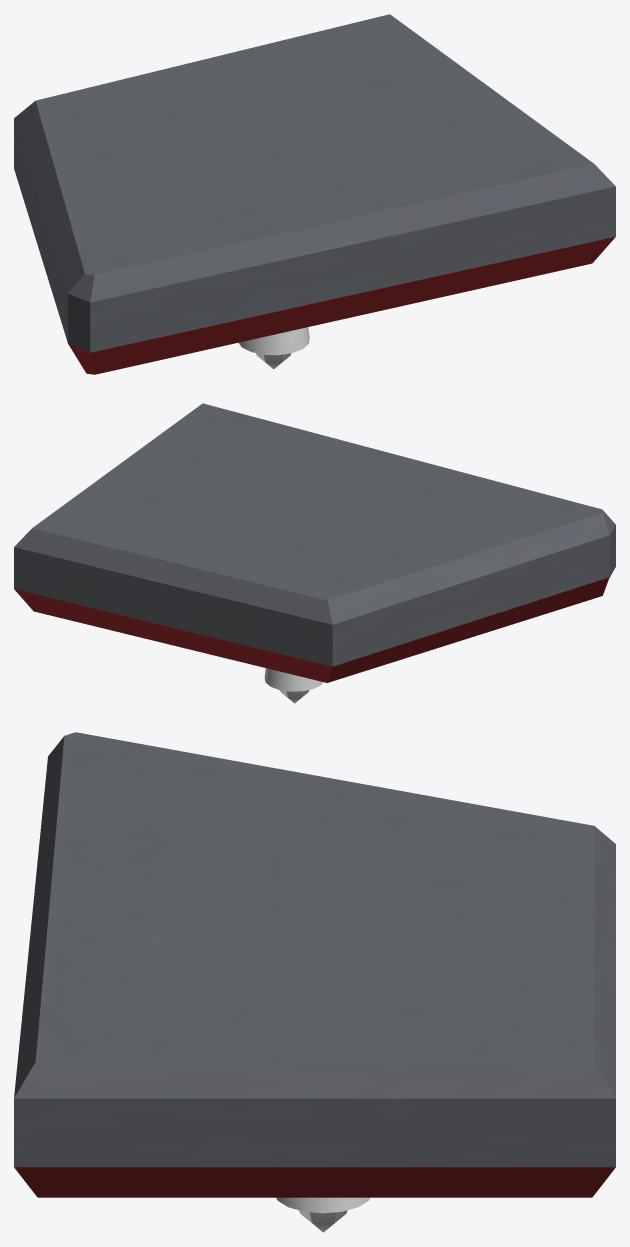
File: 8thPlatform.fbx
The picture shows the model from 3 angles, top to bottom: view 1: azimuth 30°, elevation 25°; view 2: azimuth 150°, elevation 25°; view 3: azimuth 270°, elevation 25°; orthographic projection. The views are drawn at different scales.
Parts seen in each view (by area): view 1: Cube.003, Booster.001; view 2: Cube.003, Booster.001; view 3: Cube.003, Booster.001.
Part boxes in pixels (<box>): Cube.003: <box>14,14,615,374</box>; Booster.001: <box>238,327,309,369</box>; Cube.003: <box>14,403,615,682</box>; Booster.001: <box>229,659,323,703</box>; Cube.003: <box>14,732,615,1197</box>; Booster.001: <box>276,1197,369,1232</box>.
Bounding box in the file's own units: 273 × 115 × 200.
Materials: 4 (2 with a texture image).
